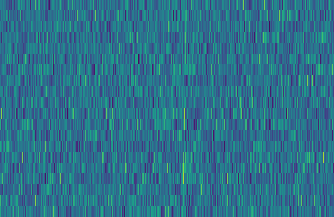signal: (177, 0, 190, 217)
